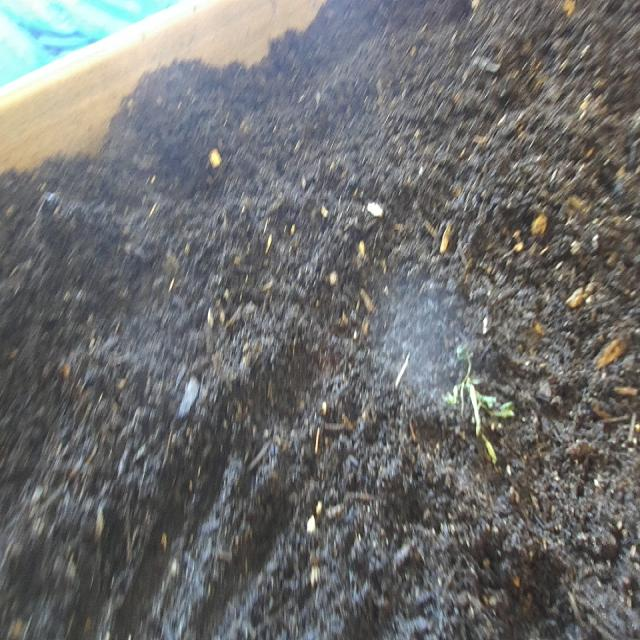Unhealthy: (438, 333, 517, 462)
